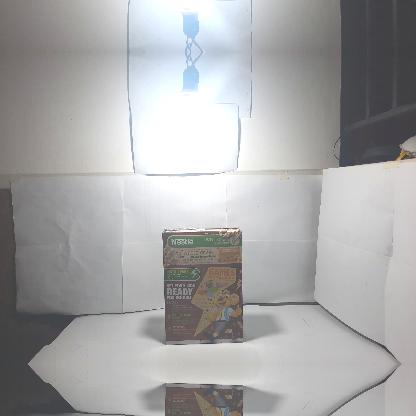Koko-Krunch: (161, 226, 243, 344), (161, 383, 244, 415)
